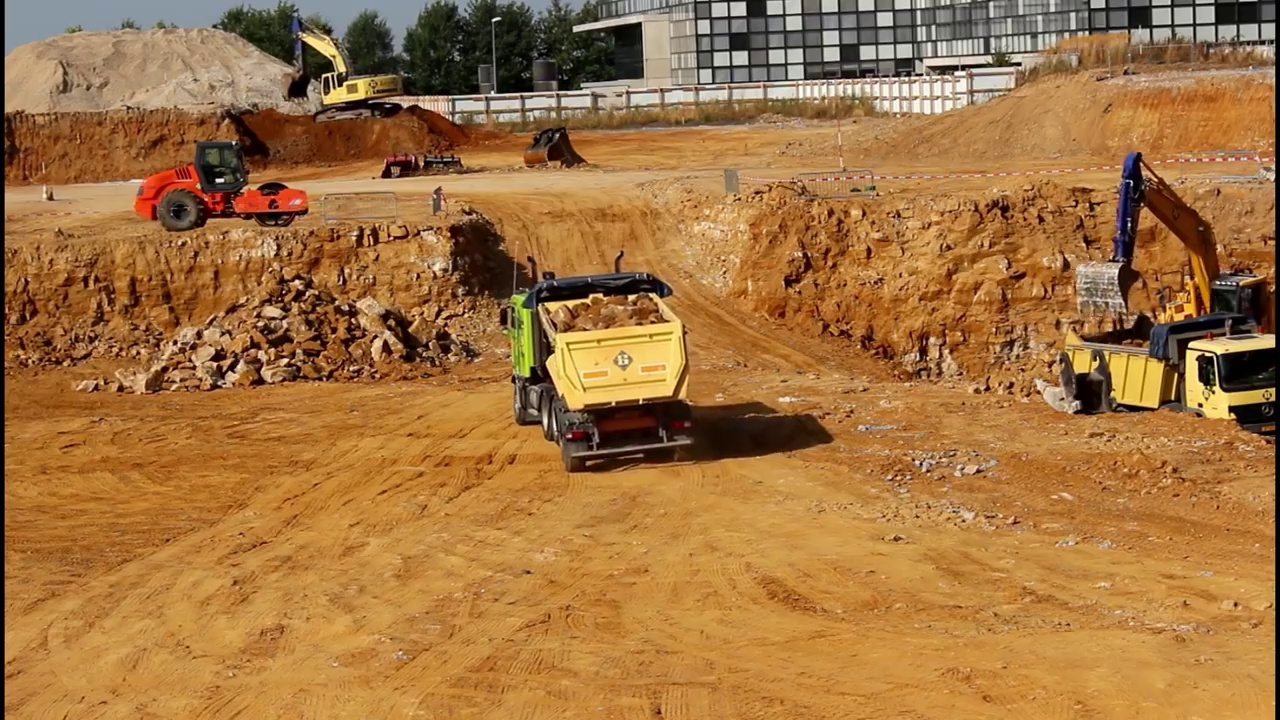compactor: (131, 140, 313, 231)
excavator: (1069, 143, 1280, 382), (278, 5, 406, 128)
truck: (499, 244, 702, 472), (1057, 310, 1280, 449)
